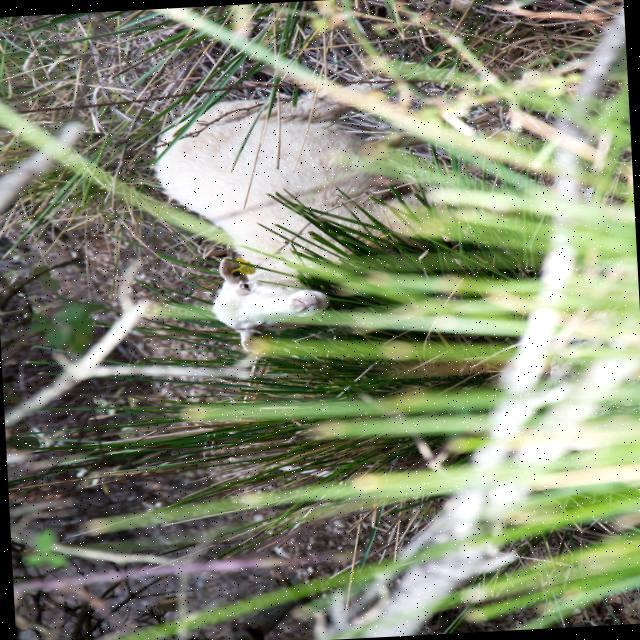sheep: (150, 83, 422, 350)
